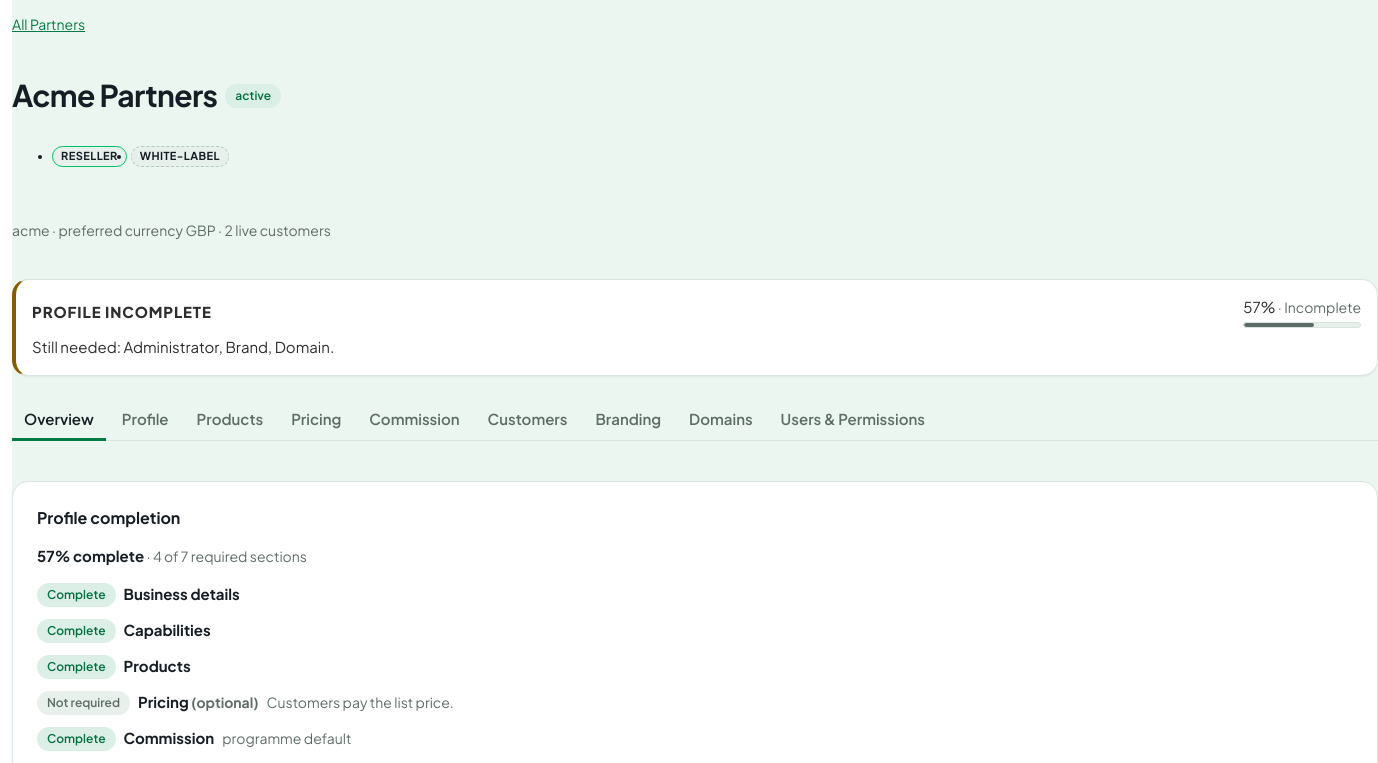
Test case: Products › offers no grant changes to staff who may not manage partners
Click the tab "Products": (230, 420) [185, 400, 275, 441]
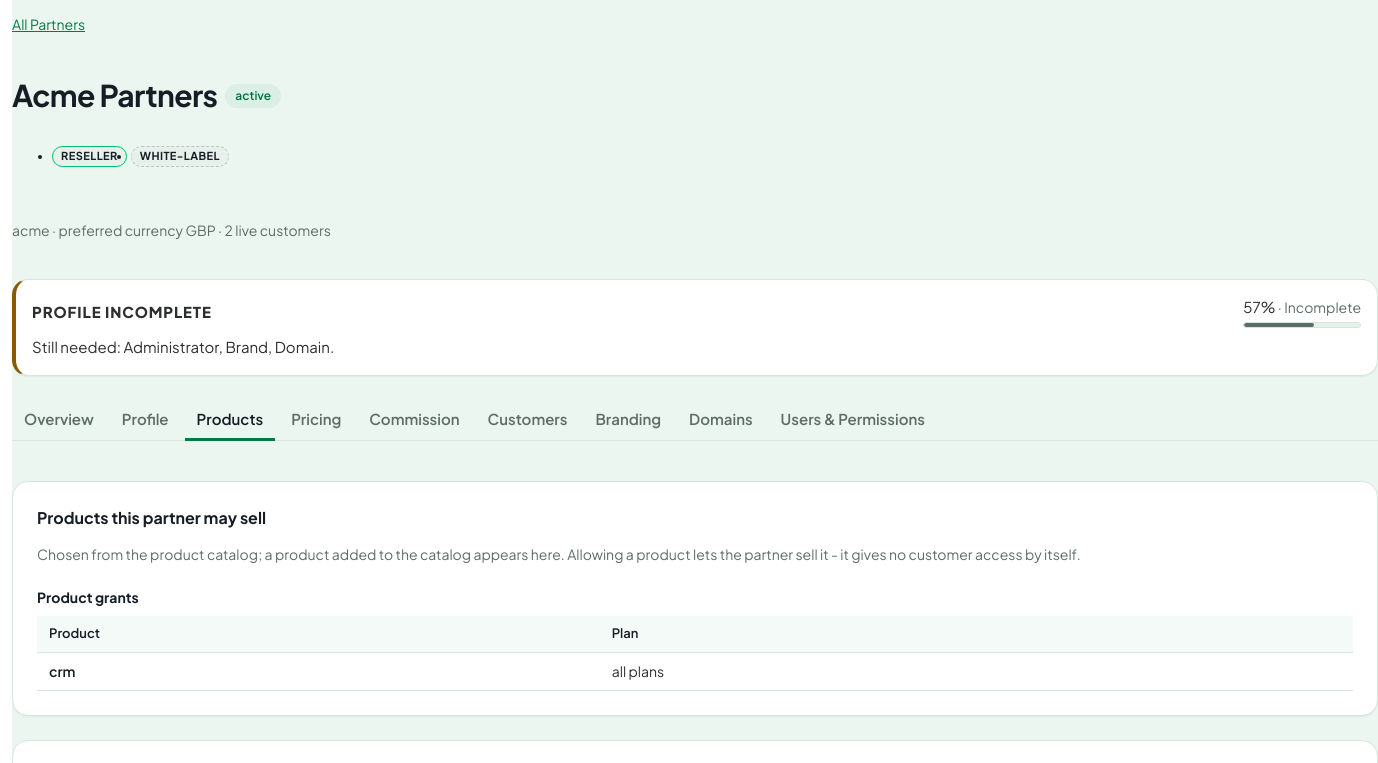
Expected: the table "Product grants" is shown, [37, 579, 1353, 690]
